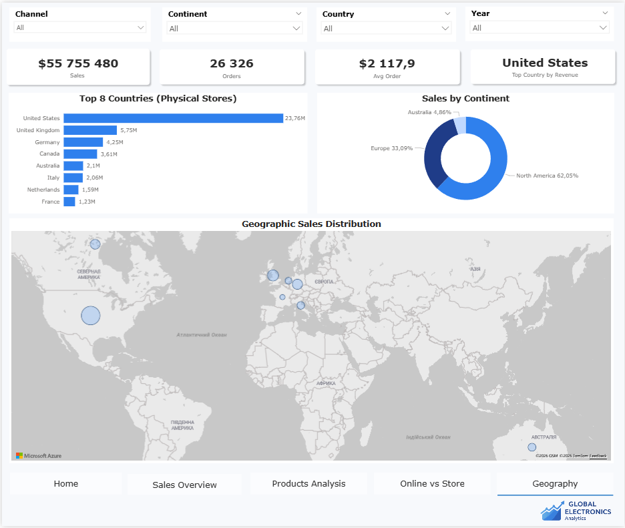

The page's visual inventory and layout, read from the dashboard file:
{"tool":"powerbi","page":{"name":"Sales Geography","canvas":[1390,1170],"ordinal":4},"visuals":[{"type":"group","id":"g1","title":"Group 4","box":[3.3,6.7,1383.3,1163.3],"z":0},{"type":"shape","box":[3.3,95.7,334.2,95.3],"z":0,"group":"g2"},{"type":"shape","box":[345.1,97.2,338,92.7],"z":0,"group":"g3"},{"type":"shape","box":[692.6,97.2,338,92.7],"z":0,"group":"g4"},{"type":"shape","box":[1040.1,97.2,337.4,91.7],"z":0,"group":"g5"},{"type":"azureMap","title":"Geographic Sales Distribution","fields":{"Category":["DimCustomers.Country","DimCustomers.State","DimCustomers.City"],"Size":["_Measure.Sales USD"]},"box":[16.9,483.1,1350.2,547.1],"z":0,"group":"g7"},{"type":"slicer","fields":{"Values":["DimCustomers.Continent"]},"box":[358,10.7,323.9,77.3],"z":1000,"group":"g7"},{"type":"card","fields":{"Values":["_Measure.Sales Selected Currency"]},"box":[18.5,104.9,305,77.9],"z":1000,"group":"g2"},{"type":"card","fields":{"Values":["_Measure.Top Country"]},"box":[1059,105.2,308.4,75.1],"z":1000,"group":"g5"},{"type":"card","fields":{"Values":["_Measure.Orders"]},"box":[363.6,105.9,300.7,75.9],"z":1000,"group":"g3"},{"type":"card","fields":{"Values":["_Measure.AOV Selected Currency"]},"box":[711.1,105.9,300.7,75.9],"z":1000,"group":"g4"},{"type":"slicer","fields":{"Values":["DimStores.Channel"]},"box":[16.9,10.7,316.4,77.3],"z":4000,"group":"g7"},{"type":"clusteredBarChart","title":"Top 8 Countries (Physical Stores)","fields":{"Category":["DimStores.Country"],"Y":["_Measure.Sales Physical Stores"]},"box":[15.4,201.8,667.6,270],"z":5000,"group":"g7"},{"type":"image","box":[1201.6,1105,165,65],"z":5000,"group":"g1"},{"type":"donutChart","title":"Sales by Continent","fields":{"Category":["DimCustomers.Continent"],"Y":["_Measure.Sales Selected Currency"]},"box":[704.5,201.5,664.2,270.1],"z":6000},{"type":"group","id":"g2","title":"Group 1","box":[3.3,95.7,334.5,95.8],"z":7000,"group":"g7"},{"type":"group","id":"g3","title":"Group 1","box":[345.1,97.2,337.4,92.7],"z":8000,"group":"g7"},{"type":"actionButton","box":[281.8,1054.4,255.2,46.9],"z":8000,"group":"g6"},{"type":"slicer","fields":{"Values":["DimCustomers.Country"]},"box":[704,10.7,311.9,77.3],"z":9000,"group":"g7"},{"type":"actionButton","box":[18.4,1051.8,249.9,49.1],"z":9000,"group":"g6"},{"type":"actionButton","box":[555.8,1051.8,260.9,49.1],"z":10000,"group":"g6"},{"type":"actionButton","box":[1106.1,1051.8,260.9,49.1],"z":11000,"group":"g6"},{"type":"shape","box":[1107.9,1092.5,259.2,17.5],"z":11000,"group":"g7"},{"type":"group","id":"g4","title":"Group 1","box":[692.6,97.2,337.4,92.7],"z":12000,"group":"g7"},{"type":"actionButton","box":[831.8,1051.8,260.9,49.1],"z":12000,"group":"g6"},{"type":"group","id":"g5","title":"Group 1","box":[1040.1,97.2,337.4,91.7],"z":13000,"group":"g7"},{"type":"group","id":"g6","title":"Group 2","box":[18.4,1051.8,1348.7,49.5],"z":14000,"group":"g7"},{"type":"slicer","fields":{"Values":["DimCalendar.Year"]},"box":[1036.3,10.1,331.5,77.3],"z":15000,"group":"g7"},{"type":"group","id":"g7","title":"Group 3","box":[3.3,6.7,1383.3,1103.4],"z":18001,"group":"g1"}]}

Visuals, with their boxes in screenshot pixels (x1, y1, x2, y2), scaled from the page's 1390x1170 canvas onto the 625x528 screenshot:
"Group 4" group: 1,3,623,527
shape: 1,43,152,86
shape: 155,44,307,86
shape: 311,44,463,86
shape: 468,44,619,85
"Geographic Sales Distribution" azureMap: 8,218,615,465
slicer - DimCustomers.Continent: 161,5,307,40
card - _Measure.Sales Selected Currency: 8,47,145,82
card - _Measure.Top Country: 476,47,615,81
card - _Measure.Orders: 163,48,299,82
card - _Measure.AOV Selected Currency: 320,48,455,82
slicer - DimStores.Channel: 8,5,150,40
"Top 8 Countries (Physical Stores)" clusteredBarChart: 7,91,307,213
image: 540,499,614,527
"Sales by Continent" donutChart: 317,91,615,213
"Group 1" group: 1,43,152,86
"Group 1" group: 155,44,307,86
actionButton: 127,476,241,497
slicer - DimCustomers.Country: 317,5,457,40
actionButton: 8,475,121,497
actionButton: 250,475,367,497
actionButton: 497,475,615,497
shape: 498,493,615,501
"Group 1" group: 311,44,463,86
actionButton: 374,475,491,497
"Group 1" group: 468,44,619,85
"Group 2" group: 8,475,615,497
slicer - DimCalendar.Year: 466,5,615,39
"Group 3" group: 1,3,623,501
